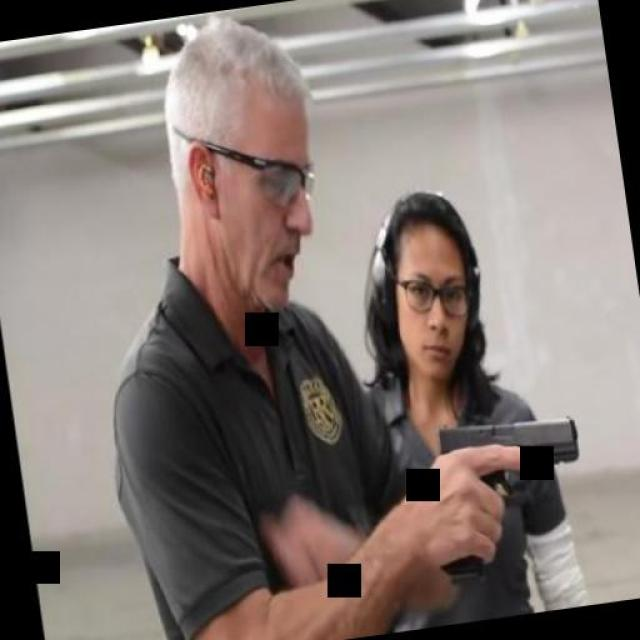gun: (415, 399, 597, 579)
